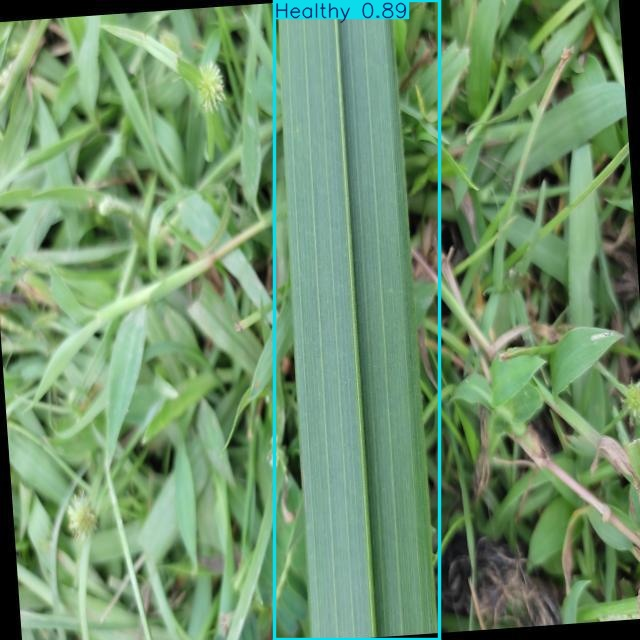Healthy: (274, 0, 440, 639)
